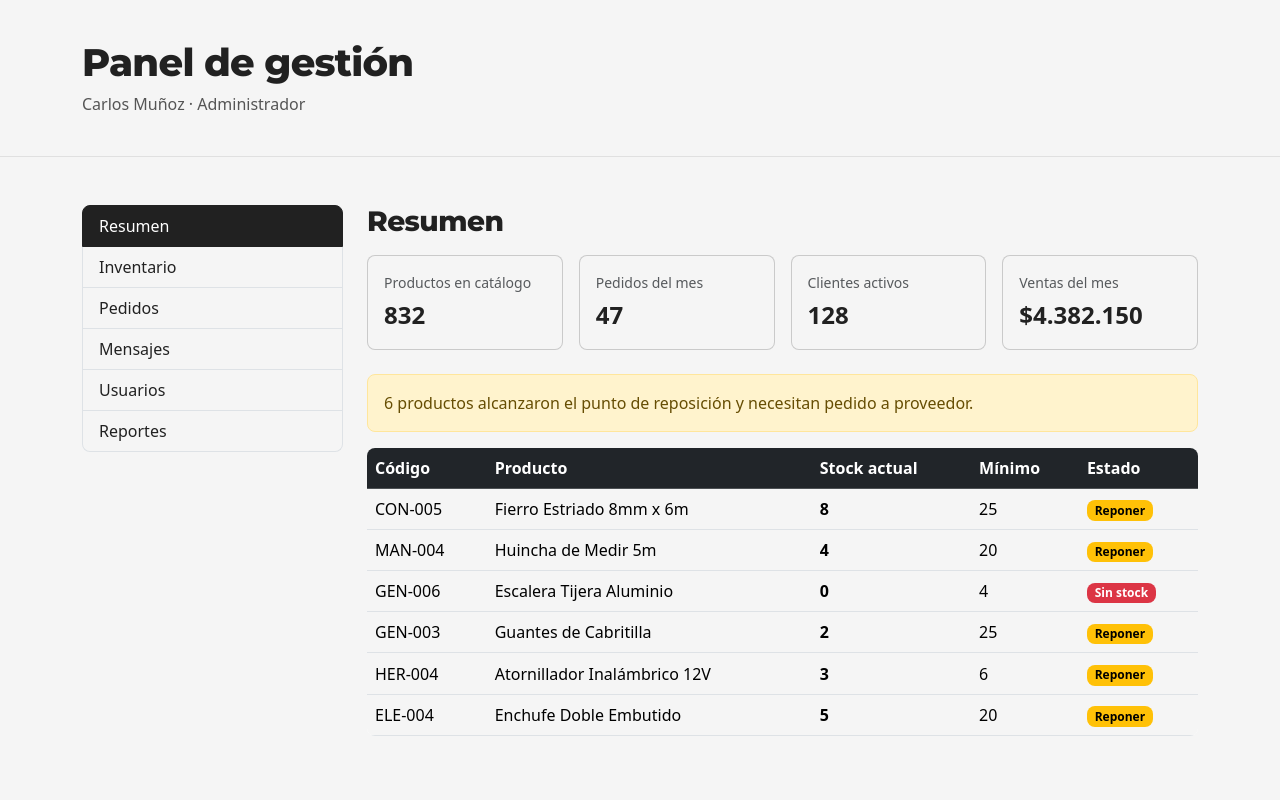
Panel › filtra los pedidos por estado
The image size is (1280, 800).
expect the heading "Resumen" is shown: met, box [367,204,503,238]
Click the button "Pedidos": (129, 308) [82,288,343,329]
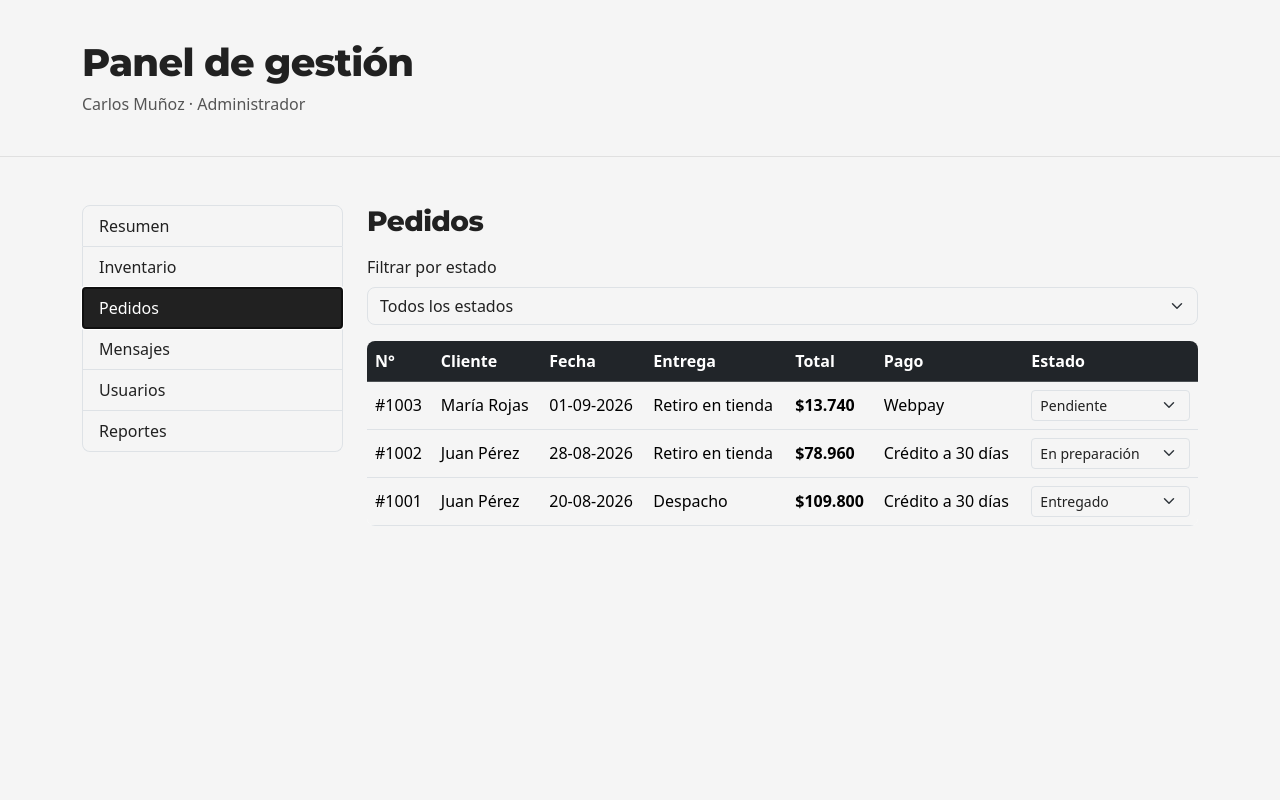
Select "Entregado" in the dropdown labelled "Filtrar por estado": (782, 306) [367,287,1198,325]
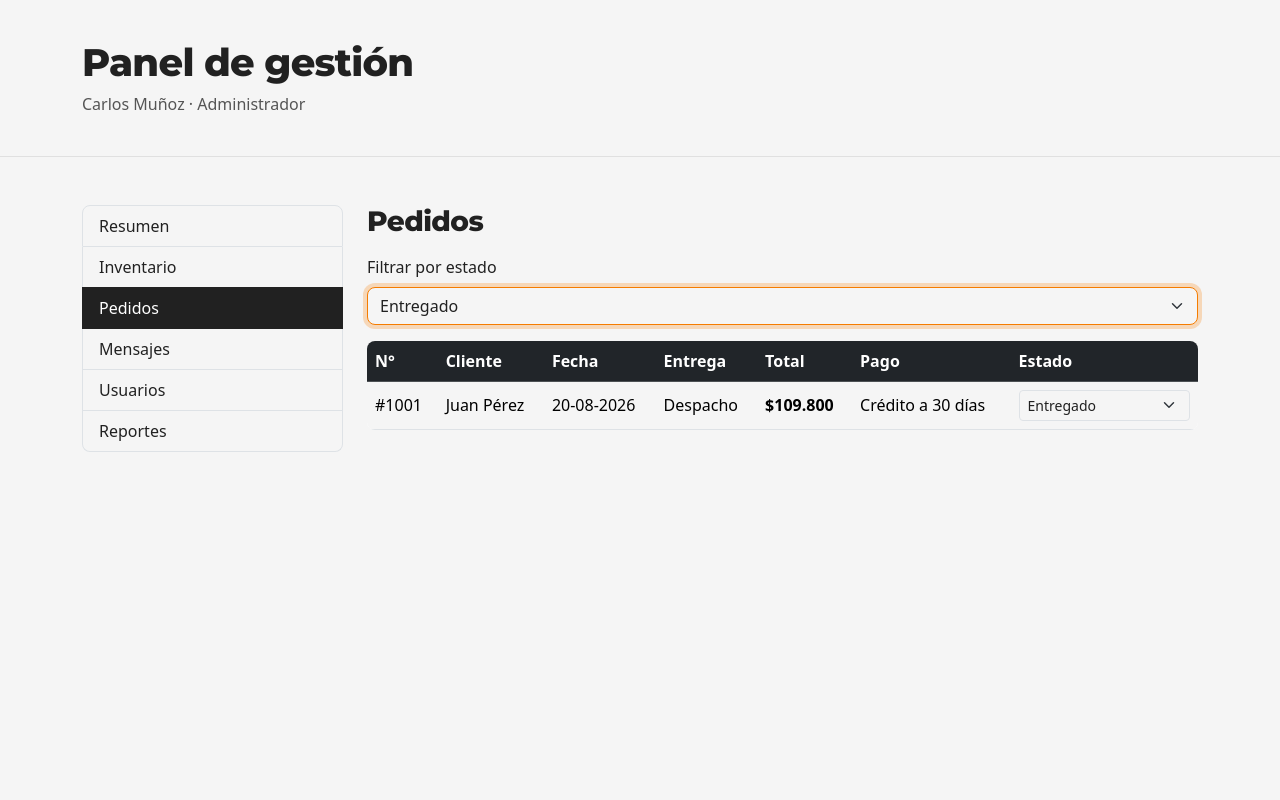
expect the text "#1001" is shown: met, box [367,381,438,429]
expect the text "#1002" is gone: met
expect the text "#1003" is gone: met
